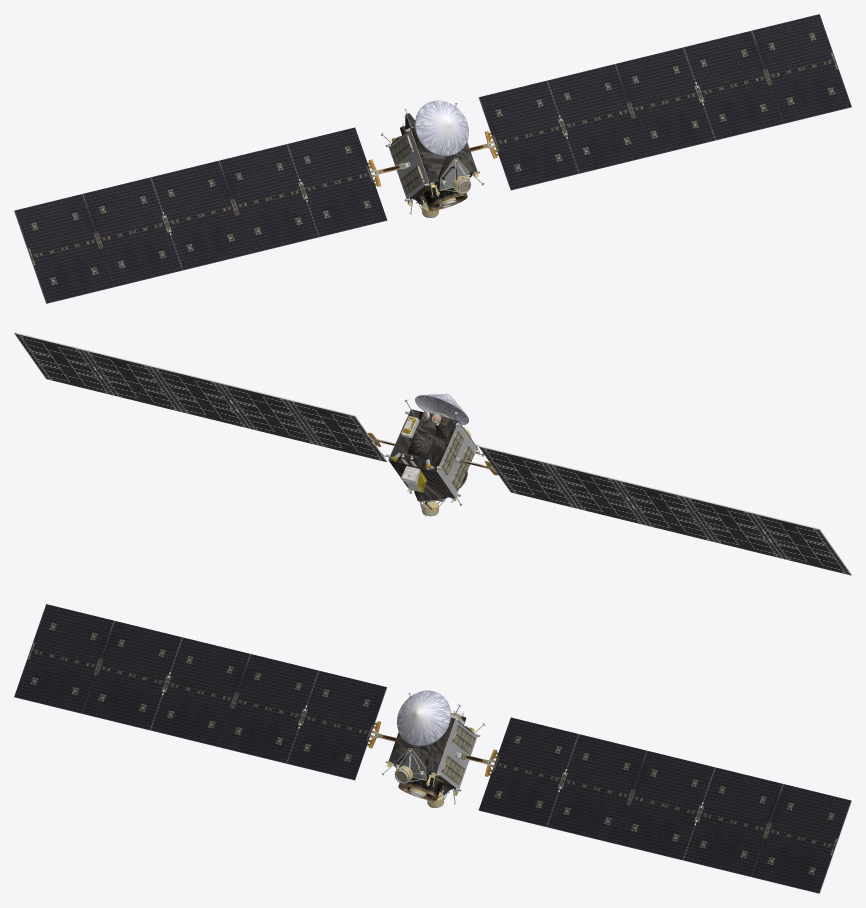
3 renders of one model, top to bottom at view 1: azimuth 30°, elevation 25°; view 2: azimuth 150°, elevation 25°; view 3: azimuth 330°, elevation 25°, orthographic.
Parts seen in each view (by area): view 1: mesh07_solp9_0_95, mesh197_solp9_0_55, mesh193_solp9_0_67, mesh191_solp9_0_73, mesh06_solp9_0_93, mesh03_solp9_0_87, mesh04_solp9_0_89, mesh195_solp9_0_61, mesh188_solp9_0_79, mesh05_solp9_0_91, mesh95_CopyOf--default-_0_23, mesh70_body1_0_13 (+3 smaller); view 2: mesh70_body1_0_13, mesh07_solp9_0_95, mesh03_solp9_0_87, mesh191_solp9_0_73, mesh195_solp9_0_61, mesh06_solp9_0_93, mesh197_solp9_0_55, mesh04_solp9_0_89, mesh05_solp9_0_91, mesh193_solp9_0_67, mesh188_solp9_0_79, mesh177_louvre3_0_49 (+3 smaller); view 3: mesh197_solp9_0_55, mesh07_solp9_0_95, mesh195_solp9_0_61, mesh05_solp9_0_91, mesh04_solp9_0_89, mesh191_solp9_0_73, mesh188_solp9_0_79, mesh06_solp9_0_93, mesh03_solp9_0_87, mesh193_solp9_0_67, mesh95_CopyOf--default-_0_23, mesh70_body1_0_13 (+3 smaller).
Boxes of the visible parts, x1,y1,x2,y2 form: mesh07_solp9_0_95: (14,194,114,303); mesh197_solp9_0_55: (752,14,851,123); mesh193_solp9_0_67: (615,47,715,156); mesh191_solp9_0_73: (547,64,647,173); mesh06_solp9_0_93: (82,177,182,286); mesh03_solp9_0_87: (287,127,387,236); mesh04_solp9_0_89: (219,144,318,253); mesh195_solp9_0_61: (683,30,783,140); mesh188_solp9_0_79: (479,80,578,190); mesh05_solp9_0_91: (151,160,250,270); mesh95_CopyOf--default-_0_23: (415,100,468,156); mesh70_body1_0_13: (391,113,477,205); mesh70_body1_0_13: (388,409,477,509); mesh07_solp9_0_95: (751,513,851,575); mesh03_solp9_0_87: (479,446,578,508); mesh191_solp9_0_73: (219,383,318,445); mesh195_solp9_0_61: (82,350,181,412); mesh06_solp9_0_93: (683,496,782,558); mesh197_solp9_0_55: (14,333,113,395); mesh04_solp9_0_89: (547,463,646,525); mesh05_solp9_0_91: (615,480,714,542); mesh193_solp9_0_67: (151,366,250,428); mesh188_solp9_0_79: (287,400,386,462); mesh177_louvre3_0_49: (391,419,474,490); mesh197_solp9_0_55: (751,784,851,893); mesh07_solp9_0_95: (14,604,113,713); mesh195_solp9_0_61: (683,767,783,876); mesh05_solp9_0_91: (150,637,250,746); mesh04_solp9_0_89: (218,654,318,763); mesh191_solp9_0_73: (547,734,646,843); mesh188_solp9_0_79: (478,717,578,826); mesh06_solp9_0_93: (82,620,182,730); mesh03_solp9_0_87: (287,670,386,780); mesh193_solp9_0_67: (615,750,714,860); mesh95_CopyOf--default-_0_23: (397,690,450,746); mesh70_body1_0_13: (388,716,474,794).
Size of the model in its own units: 110 by 15.15 by 14.
19 materials, 11 textured.
